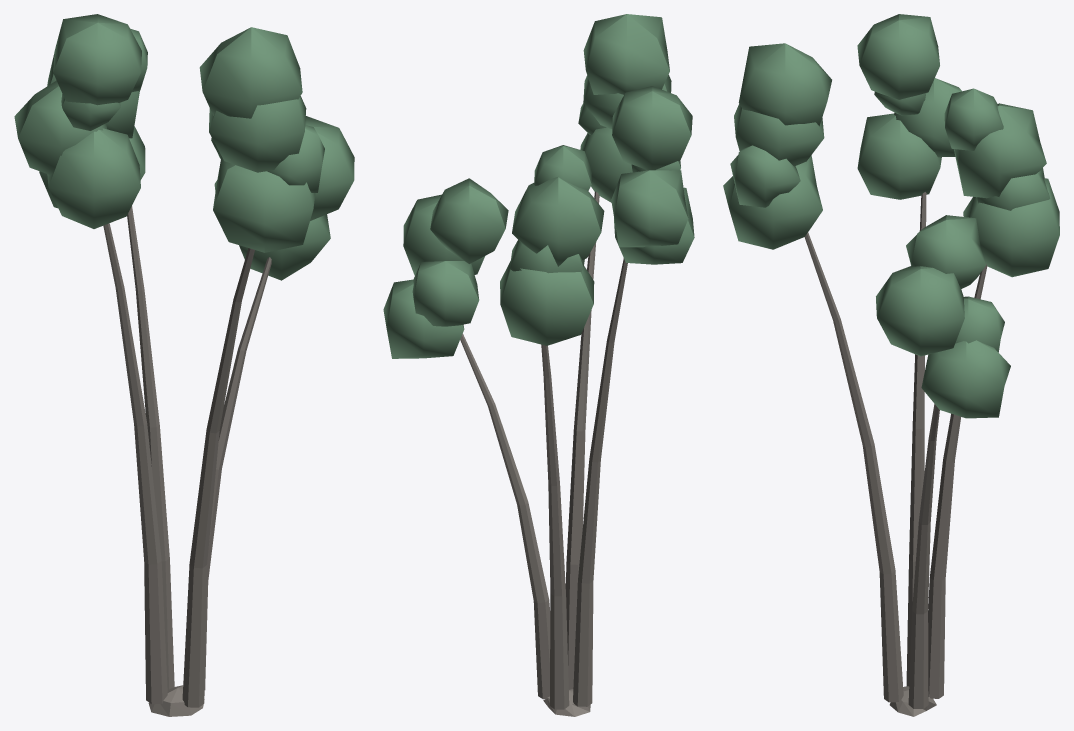
The model's file is dense-temperate-forest-flora-alder-old-4410dfb2__28334.glb.
3 renders of one model, left to right at view 1: azimuth 30°, elevation 25°; view 2: azimuth 150°, elevation 25°; view 3: azimuth 270°, elevation 25°, orthographic. The views are drawn at different scales.
Visible parts, largest first — view 1: alder-old; view 2: alder-old; view 3: alder-old.
Boxes of the visible parts, bbox=[...] form: alder-old: bbox=[14, 14, 354, 716]; alder-old: bbox=[383, 14, 694, 716]; alder-old: bbox=[723, 14, 1059, 716].
Bounding box in the file's own units: 7.6 × 16.11 × 7.41.
